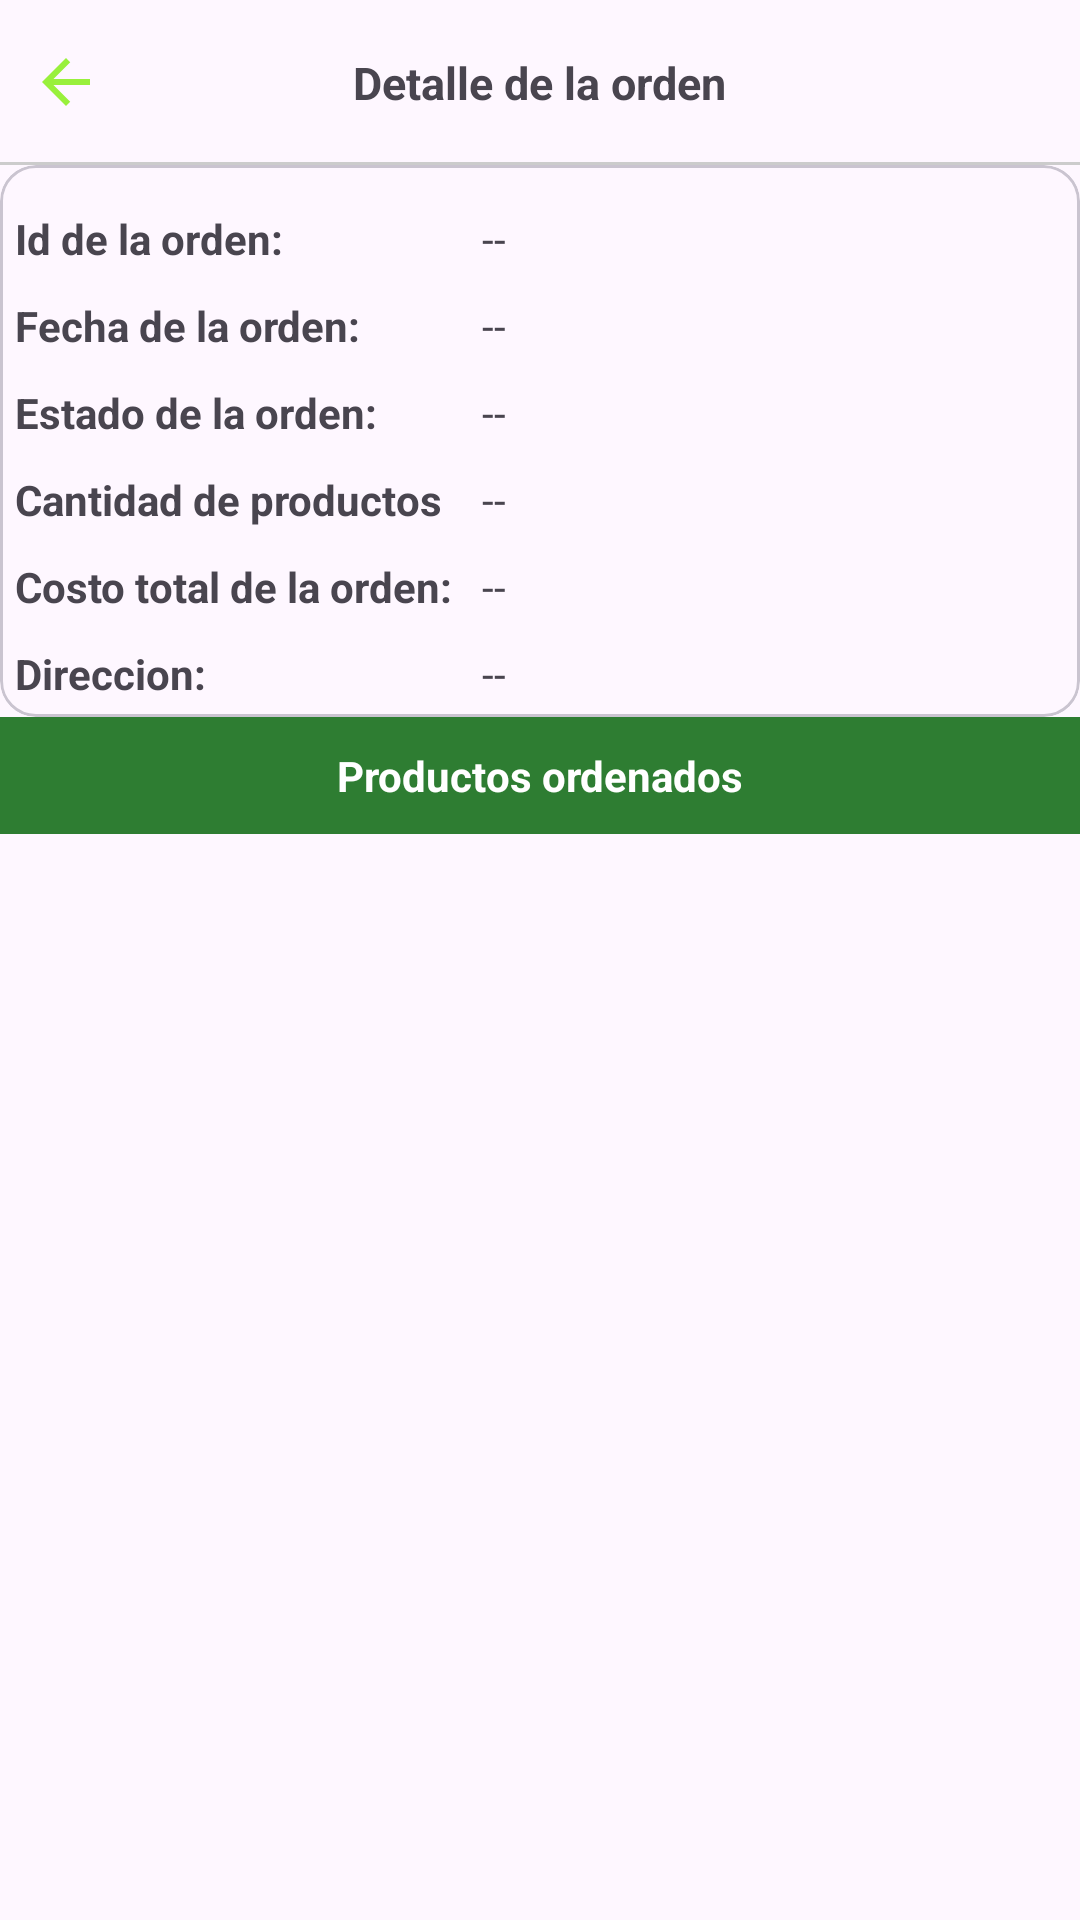

Where icons sit on this 1080x1920 app screen, as bbox=(x1, y1, x2, y2):
regresar: bbox=(42, 58, 90, 106)
